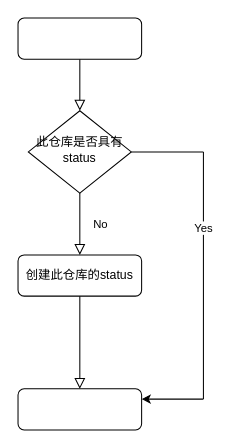
The diagram is 230 pixels wide and 448 high, and some of its shapes have lost their labels. Here are the shapes that lost their labels. From the top down, the centre of each, then its label:
(x=79, y=38): 提交pr门禁表单
(x=79, y=409): 设置分支策略，选中status
